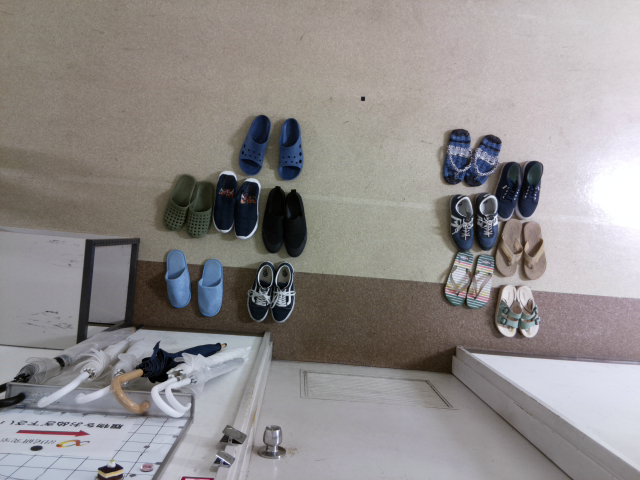Copy of Copy of Copy of Copy of Copy of Copy of Copy of Copy of Copy of Copy of: (436, 245, 474, 309), (462, 187, 500, 251), (508, 155, 546, 219), (514, 221, 552, 285), (489, 217, 527, 281), (439, 190, 477, 253), (436, 124, 474, 187), (465, 125, 503, 188), (486, 157, 524, 220), (260, 258, 295, 325), (243, 258, 278, 324), (487, 281, 518, 347), (509, 281, 542, 340), (466, 248, 495, 313)
Copy of Copy of Copy of Copy of Copy of Copy of Copy of Copy of Copy of shoe: (193, 257, 229, 324)
Copy of Copy of Copy of Copy of Copy of Copy of Copy of Copy of shoe: (158, 246, 194, 313)
Copy of Copy of Copy of Copy of Copy of Copy of Copy of shoe: (165, 167, 201, 233)
Copy of Copy of Copy of Copy of Copy of Copy of shoe: (184, 177, 219, 243)
Copy of Copy of Copy of Copy of Copy of shoe: (210, 169, 246, 235)
Copy of Copy of Copy of Copy of shoe: (229, 176, 264, 243)
Copy of Copy of Copy of shoe: (256, 182, 291, 258)
Copy of Copy of shoe: (278, 185, 313, 261)
Copy of shoe: (237, 112, 270, 182)
shoe: (274, 113, 307, 183)
